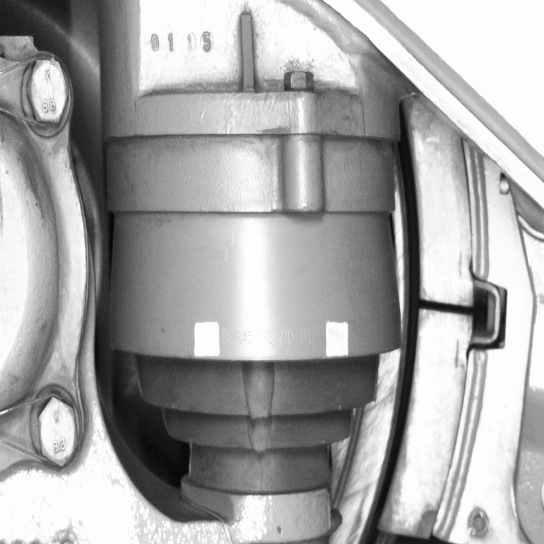KnifeSwitch: (353, 135, 486, 542)
